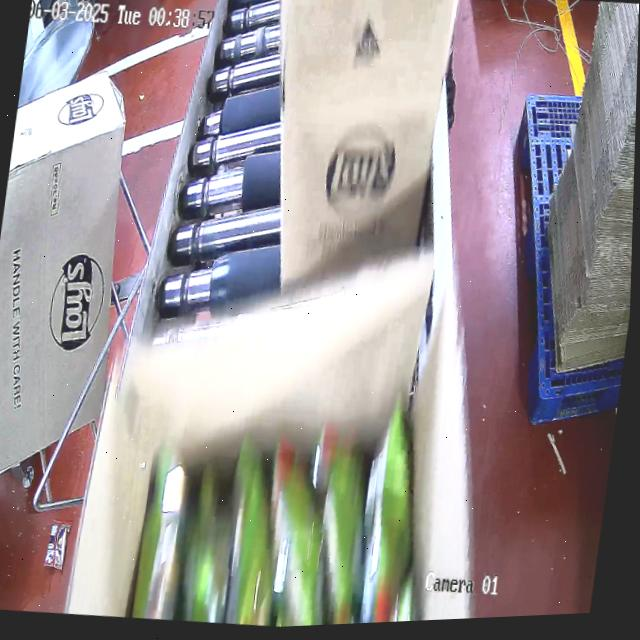YOGURT_HERB: (119, 427, 439, 634)
